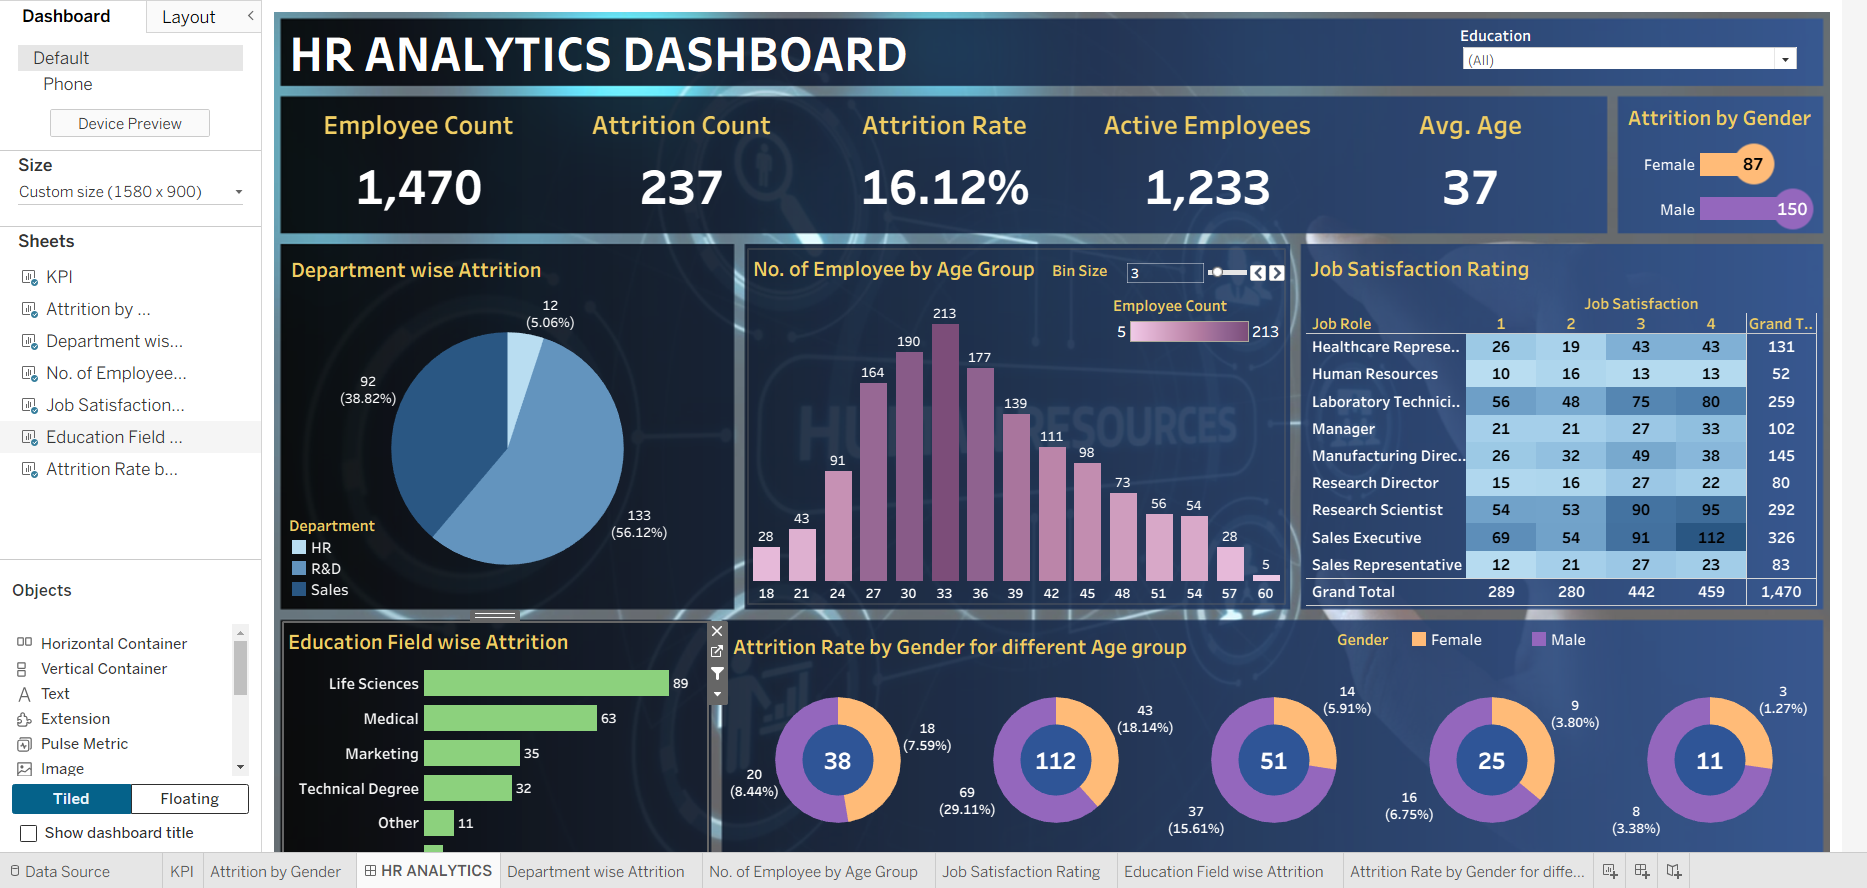

The page's visual inventory and layout, read from the dashboard file:
{"tool":"tableau","page":{"name":"HR ANALYTICS","canvas":[1580,900],"ordinal":0},"visuals":[{"type":"image","param":"C:/Users/praja/Downloads/HR background.pptx.png","box":[8,8,1564,884]},{"type":"text","box":[24,22,942,60]},{"type":"filter","title":"Department wise Attrition","param":"[federated.06q4pwl1187tn91fz6ala05f3p4p].[none:Education:nk]","box":[1198,25,340,44]},{"type":"worksheet","title":"Attrition by Gender","mark":"Automatic","rows":["Gender"],"cols":["Calculation_0942342034649096","Calculation_0942342034649096"],"box":[1358,99,199,132]},{"type":"worksheet","title":"KPI","mark":"Automatic","box":[25,101,1315,127]},{"type":"worksheet","title":"No. of Employee by Age Group","mark":"Automatic","rows":["Employee Count"],"cols":["Age (bin)"],"box":[487,250,535,353]},{"type":"worksheet","title":"Job Satisfaction Rating","mark":"Square","rows":["Job Role"],"cols":["Job Satisfaction"],"box":[1044,250,511,356]},{"type":"worksheet","title":"Department wise Attrition","mark":"Pie","box":[25,251,441,352]},{"type":"parameter","param":"[Parameters].[Parameter 0942342069186571]","box":[790,260,236,31]},{"type":"legend","title":"No. of Employee by Age Group","param":"[federated.06q4pwl1187tn91fz6ala05f3p4p].[sum:Employee Count:qk]","box":[851,295,171,50]},{"type":"legend","title":"Department wise Attrition","param":"[federated.06q4pwl1187tn91fz6ala05f3p4p].[none:Department:nk]","box":[27,515,140,85]},{"type":"worksheet","title":"Education Field wise Attrition","mark":"Automatic","rows":["Education Field"],"cols":["Calculation_0942342034649096"],"box":[22,623,423,252]},{"type":"worksheet","title":"Attrition Rate by Gender for different Age group","mark":"Pie","rows":["Calculation_0942342128504845","Calculation_0942342128504845"],"cols":["CF_age band"],"box":[467,628,1090,246]},{"type":"legend","title":"Attrition Rate by Gender for different Age group","param":"[federated.06q4pwl1187tn91fz6ala05f3p4p].[none:Gender:nk]","box":[1075,629,483,42]}]}

Visuals, with their boxes in screenshot pixels (x1, y1, x2, y2):
image: [265,3,1790,865]
text: [281,17,1199,75]
"Department wise Attrition" filter: [1426,20,1757,62]
"Attrition by Gender" worksheet: [1582,92,1776,220]
"KPI" worksheet: [282,94,1564,217]
"No. of Employee by Age Group" worksheet: [732,239,1254,583]
"Job Satisfaction Rating" worksheet (Square marks): [1276,239,1774,586]
"Department wise Attrition" worksheet (Pie marks): [282,240,712,583]
parameter: [1028,249,1258,279]
"No. of Employee by Age Group" legend: [1087,283,1254,331]
"Department wise Attrition" legend: [284,497,420,580]
"Education Field wise Attrition" worksheet: [279,603,692,848]
"Attrition Rate by Gender for different Age group" worksheet (Pie marks): [713,607,1776,847]
"Attrition Rate by Gender for different Age group" legend: [1306,608,1777,649]
